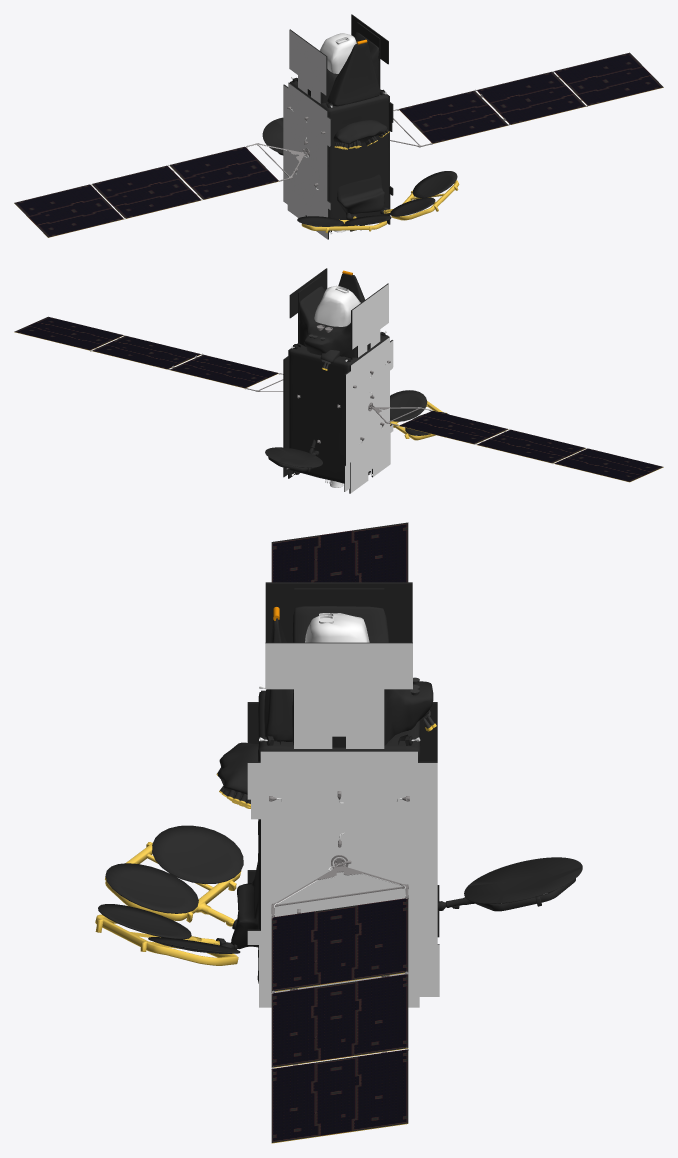
Rendered from tempo.gltf.
The picture shows the model from 3 angles, top to bottom: view 1: azimuth 30°, elevation 25°; view 2: azimuth 150°, elevation 25°; view 3: azimuth 270°, elevation 25°; orthographic projection. The views are drawn at different scales.
Parts seen in each view (by area): view 1: Extrude_1_3.003, Cube.008, krinkleBUS, krinkleBUS.002, Cylinder.039, krinkleBUS.005, krinkleBUS.003, krinkleBUS.004, krinkleBUS.001, Dish_5.001, Dish_Support_1.001, Dish_Support_2.001; view 2: Extrude_1_3.003, Cube.008, krinkleBUS, krinkleBUS.001, krinkleBUS.003, Cylinder.039, Dish_5.001, krinkleBUS.002; view 3: Cube.008, Extrude_1_3.003, Cylinder.039, krinkleBUS.001, Dish_5.001, krinkleBUS, krinkleBUS.002, Dish_Support_1.001, krinkleBUS.003, krinkleBUS.004, krinkleBUS.005, Dish_Support_2.001 (+1 smaller).
Boxes of the visible parts, x1,y1,x2,y2 form: Extrude_1_3.003: (14, 52, 663, 237); Cube.008: (283, 14, 393, 239); krinkleBUS: (290, 81, 389, 230); krinkleBUS.002: (327, 42, 380, 106); Cylinder.039: (297, 171, 457, 226); krinkleBUS.005: (337, 174, 384, 213); krinkleBUS.003: (319, 33, 356, 73); krinkleBUS.004: (333, 120, 387, 144); krinkleBUS.001: (308, 32, 379, 103); Dish_5.001: (262, 117, 283, 153); Dish_Support_1.001: (385, 180, 459, 220); Dish_Support_2.001: (301, 216, 387, 230); Extrude_1_3.003: (14, 316, 663, 482); Cube.008: (283, 268, 393, 493); krinkleBUS: (289, 335, 388, 483); krinkleBUS.001: (299, 286, 370, 357); krinkleBUS.003: (314, 285, 360, 326); Cylinder.039: (390, 390, 448, 435); Dish_5.001: (265, 447, 322, 467); krinkleBUS.002: (338, 273, 365, 302); Cube.008: (247, 582, 439, 1007); Extrude_1_3.003: (271, 522, 408, 1143); Cylinder.039: (98, 825, 243, 953); krinkleBUS.001: (292, 606, 433, 747); Dish_5.001: (464, 857, 582, 903); krinkleBUS: (257, 691, 420, 983); krinkleBUS.002: (264, 618, 293, 741); Dish_Support_1.001: (95, 914, 238, 965); krinkleBUS.003: (305, 613, 369, 642); krinkleBUS.004: (218, 742, 258, 794); krinkleBUS.005: (231, 862, 258, 949); Dish_Support_2.001: (105, 843, 241, 922).
Bounding box in the file's own units: 19.5 × 6.04 × 6.69.
Materials: 18 (1 with a texture image).
